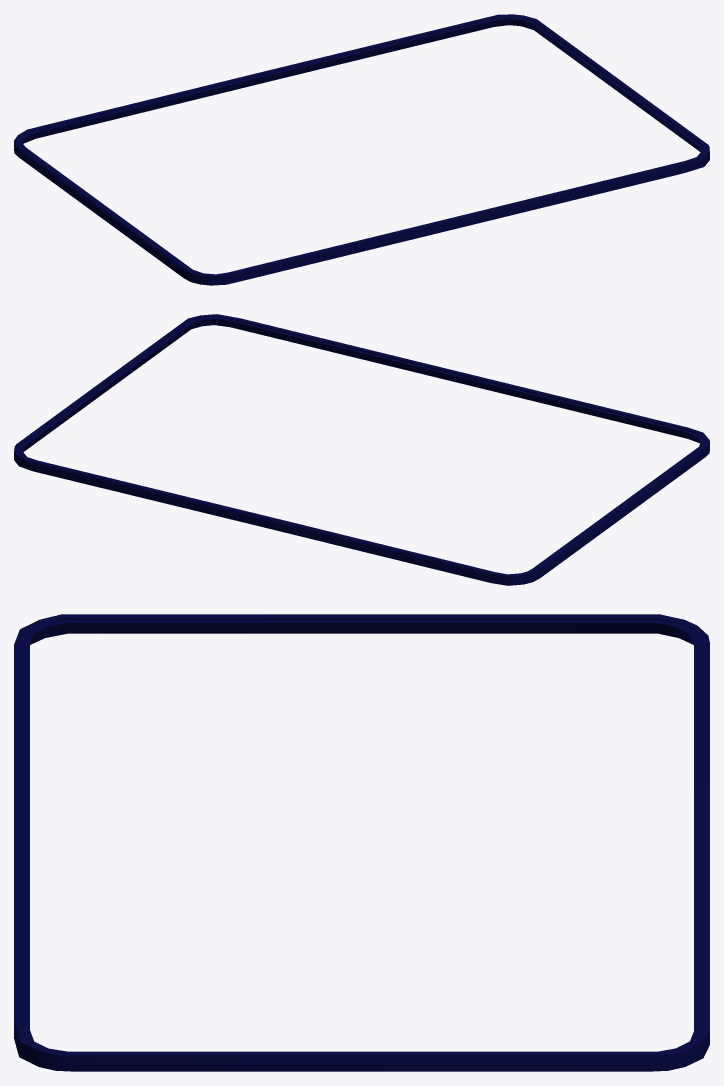
The model's file is Al_Nasar_Football_Stadium_Roof_001.FBX.
3 views of the same model, one above another, from view 1: azimuth 30°, elevation 25°; view 2: azimuth 150°, elevation 25°; view 3: azimuth 270°, elevation 25° (orthographic). The views are drawn at different scales.
Parts seen in each view (by area): view 1: Al_Nasar_Football_Stadium_Roof_001; view 2: Al_Nasar_Football_Stadium_Roof_001; view 3: Al_Nasar_Football_Stadium_Roof_001.
Part boxes in pixels (x1=…): Al_Nasar_Football_Stadium_Roof_001: x1=14, y1=14, x2=709, y2=285; Al_Nasar_Football_Stadium_Roof_001: x1=14, y1=314, x2=709, y2=585; Al_Nasar_Football_Stadium_Roof_001: x1=14, y1=614, x2=709, y2=1071.
Bounding box in the file's own units: 17964 × 11937 × 307.
